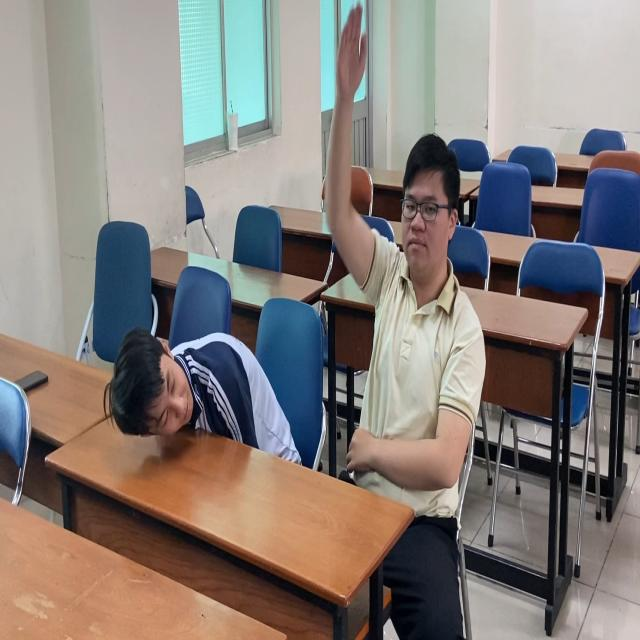raise_hand: (302, 1, 521, 528)
sleep: (110, 329, 297, 506)
